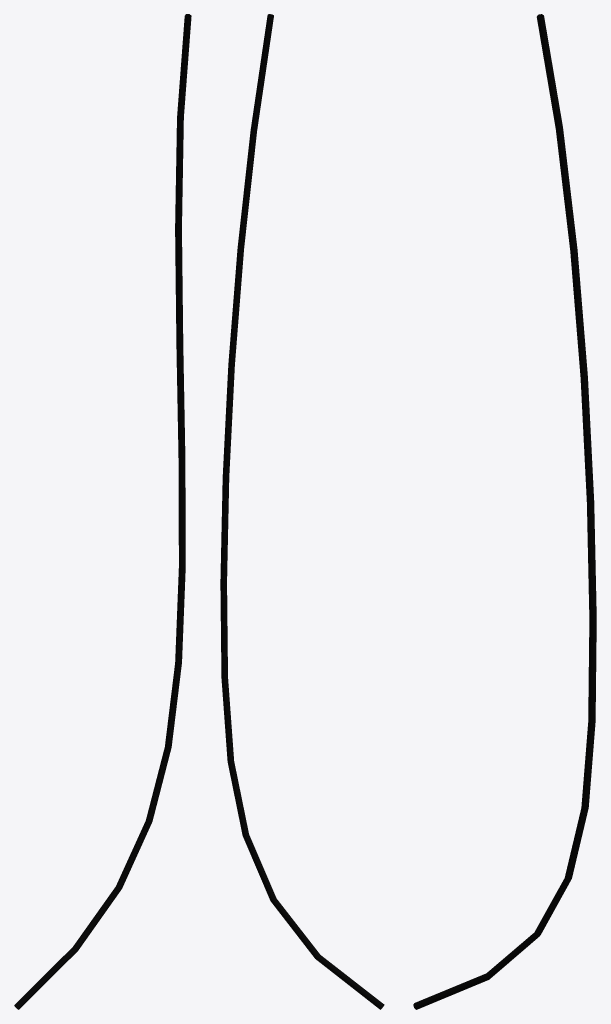
The model's file is SM_Stage_Final_Wire_ceiling_05.fbx.
The picture shows the model from 3 angles, left to right: view 1: azimuth 30°, elevation 25°; view 2: azimuth 150°, elevation 25°; view 3: azimuth 330°, elevation 25°; orthographic projection. The views are drawn at different scales.
Parts seen in each view (by area): view 1: SM_Stage_Final_Wire_ceiling_05; view 2: SM_Stage_Final_Wire_ceiling_05; view 3: SM_Stage_Final_Wire_ceiling_05.
Part boxes in pixels (x1,y1,x2,y2): SM_Stage_Final_Wire_ceiling_05: (14, 14, 191, 1009); SM_Stage_Final_Wire_ceiling_05: (220, 14, 384, 1009); SM_Stage_Final_Wire_ceiling_05: (413, 14, 596, 1009).
Bounding box in the file's own units: 56.59 × 312 × 21.13.
1 material, 1 textured.
